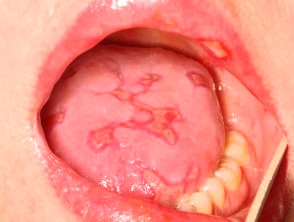SJS-TEN: (85, 55, 193, 168), (138, 150, 212, 217), (185, 14, 244, 77), (184, 66, 213, 97)
